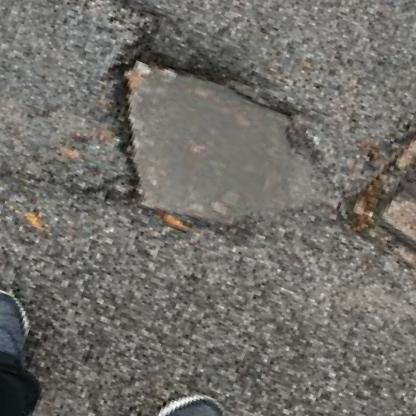pothole: (63, 28, 366, 274)
